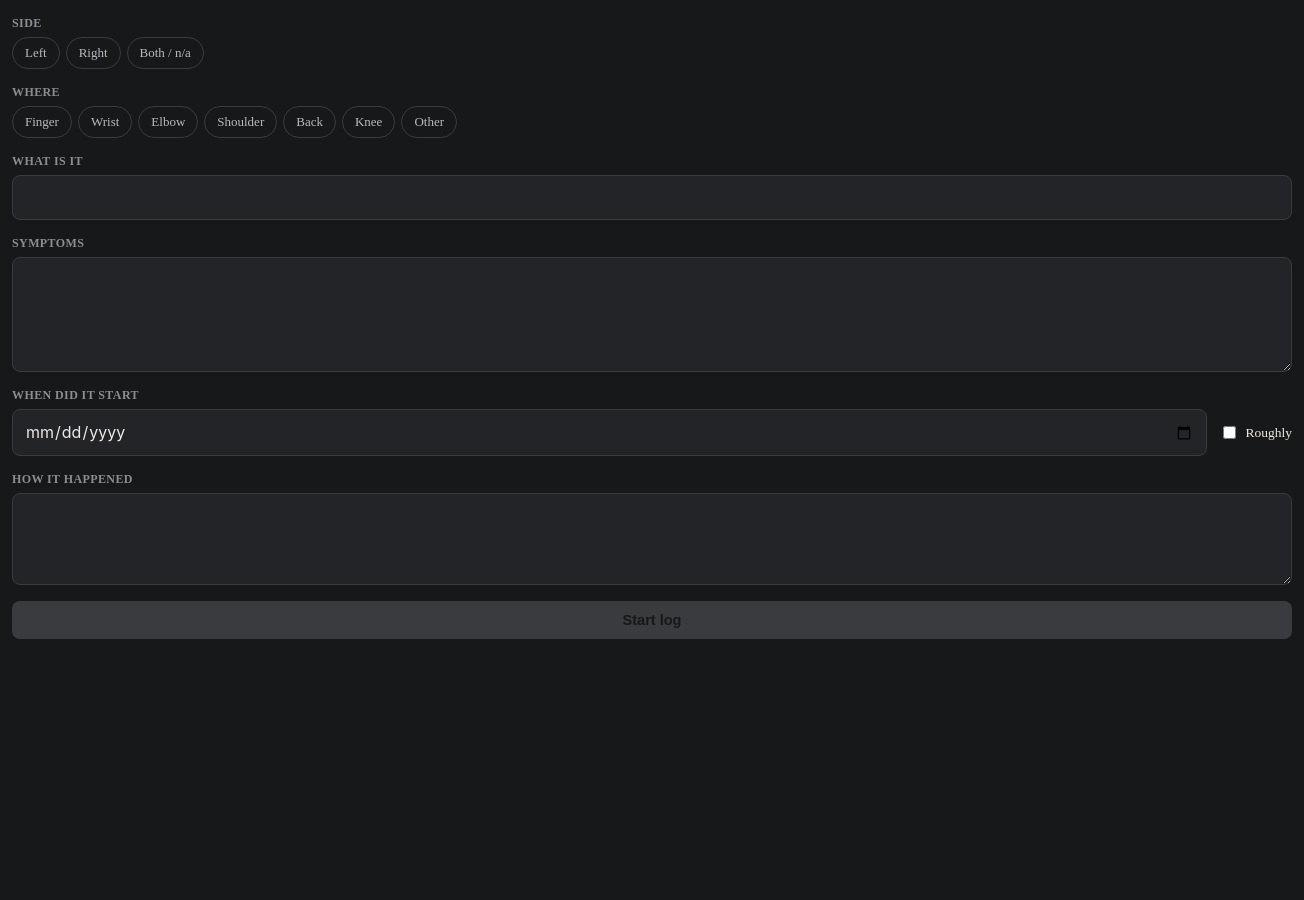
InjuryForm › needs text in Where? for Other
Click the button "Left" at (36, 53), box [12,37,60,69]
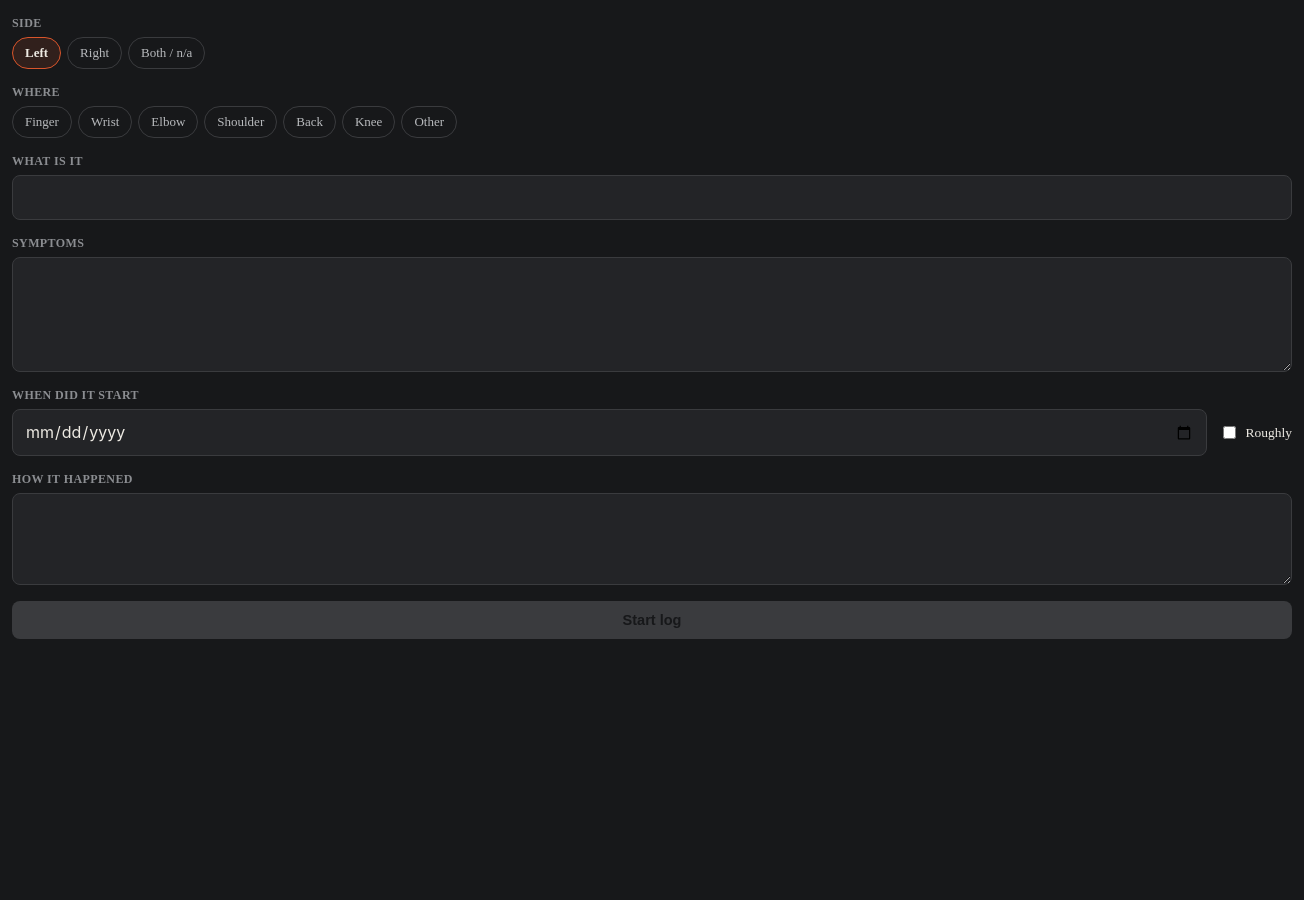
Click the button "Other" at (429, 122), box [401,106,457,138]
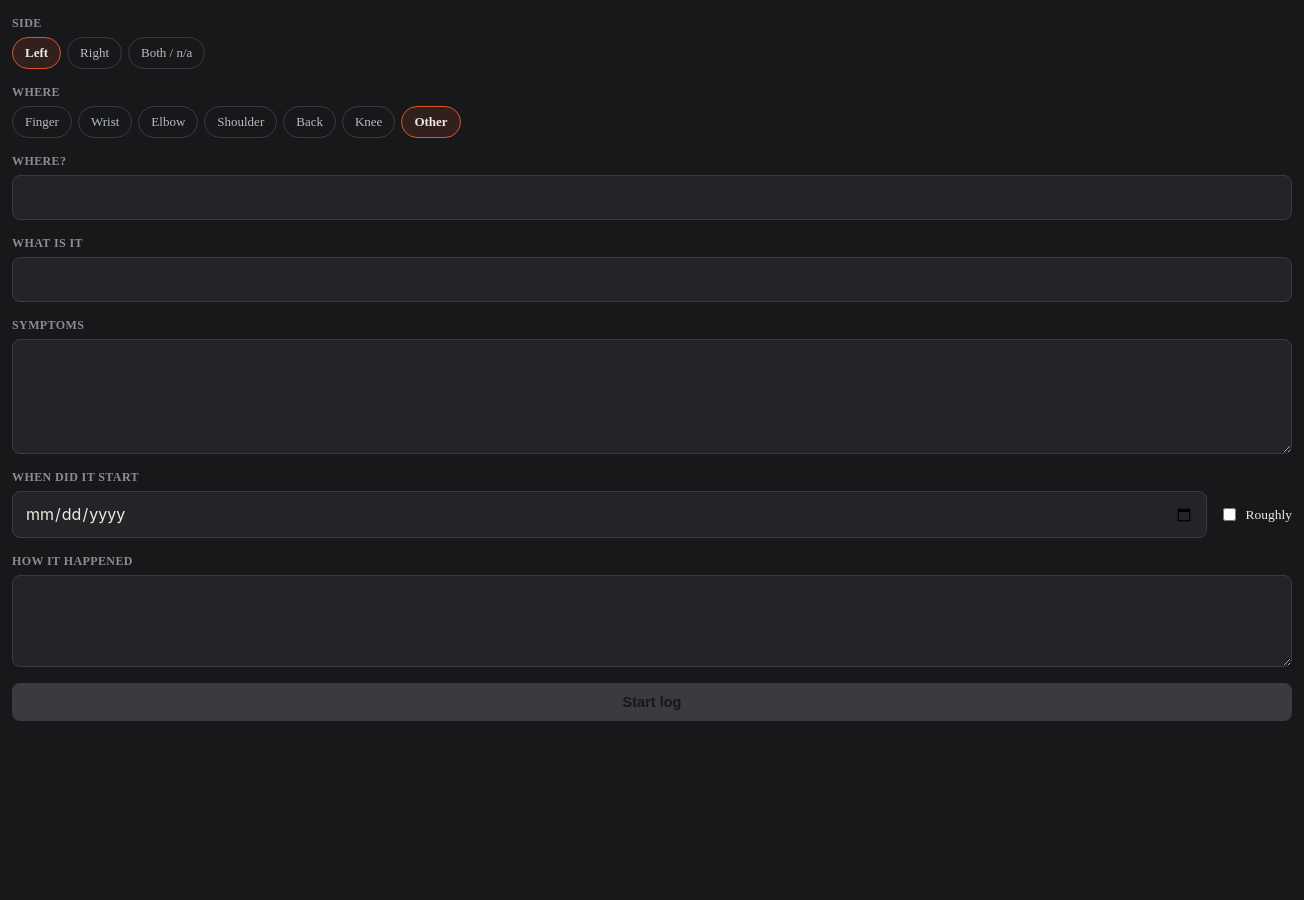
Expected: the button "Start log" is disabled, [12,683,1292,721]
Type "Ribs" into the field labelled "Where?" at (652, 198), box [12,175,1292,220]
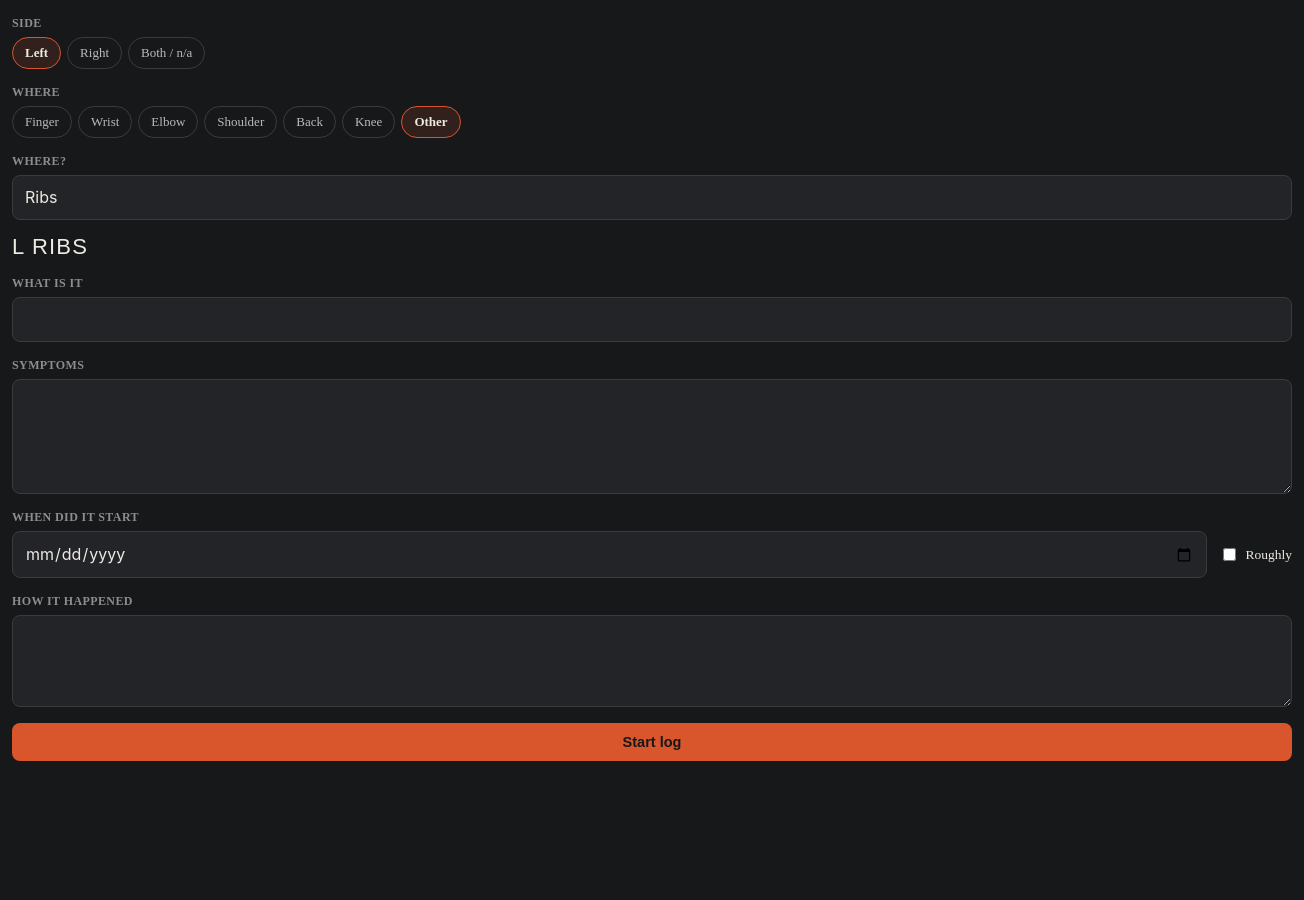
Expected: the button "Start log" is enabled, [12,723,1292,761]
